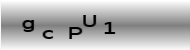1: (102, 21, 116, 34)
P: (67, 26, 82, 40)
U: (81, 14, 97, 27)
c: (42, 29, 54, 39)
g: (21, 18, 34, 32)
